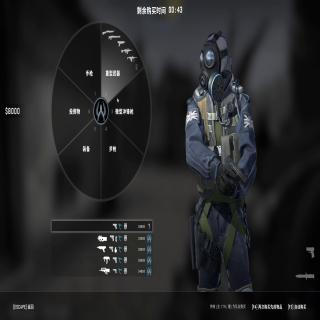CT-Body: (185, 30, 258, 293)
CT-Head: (197, 34, 229, 81)
